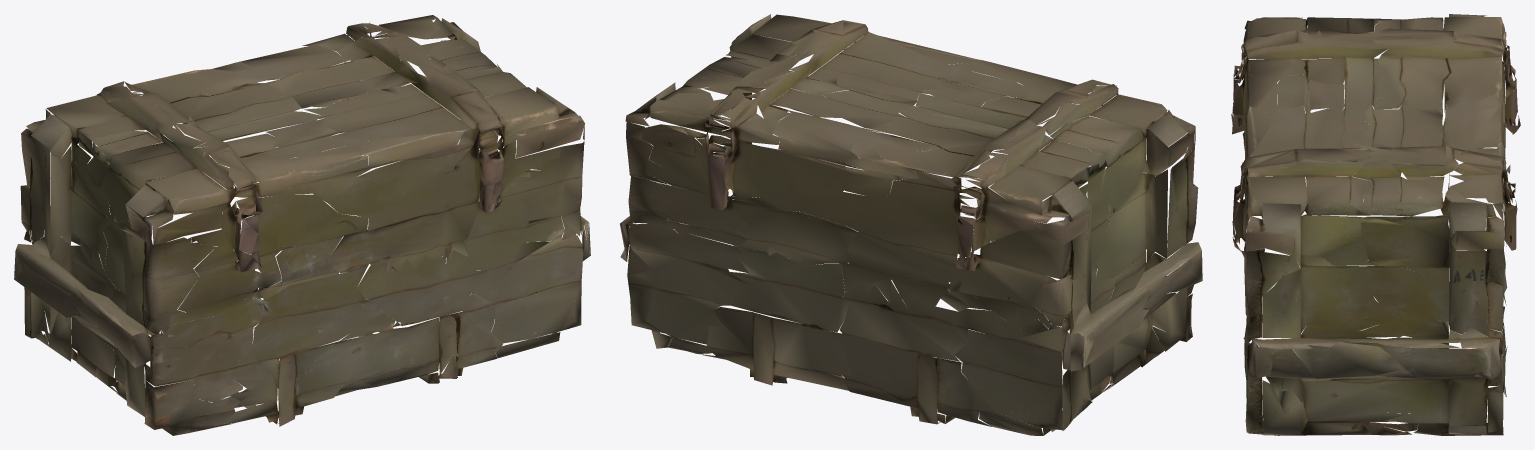
File: ammo-crate.glb
3 views of the same model, side by side, from view 1: azimuth 30°, elevation 25°; view 2: azimuth 150°, elevation 25°; view 3: azimuth 270°, elevation 25° (orthographic). The views are drawn at different scales.
Visible parts, largest first — view 1: ammo_crate; view 2: ammo_crate; view 3: ammo_crate.
Boxes of the visible parts, bbox=[...] form: ammo_crate: bbox=[14, 15, 590, 435]; ammo_crate: bbox=[620, 14, 1202, 435]; ammo_crate: bbox=[1231, 14, 1520, 435].
Size of the model in its own units: 0.5998 by 0.3376 by 0.3304.
Materials: 1 (1 with a texture image).
